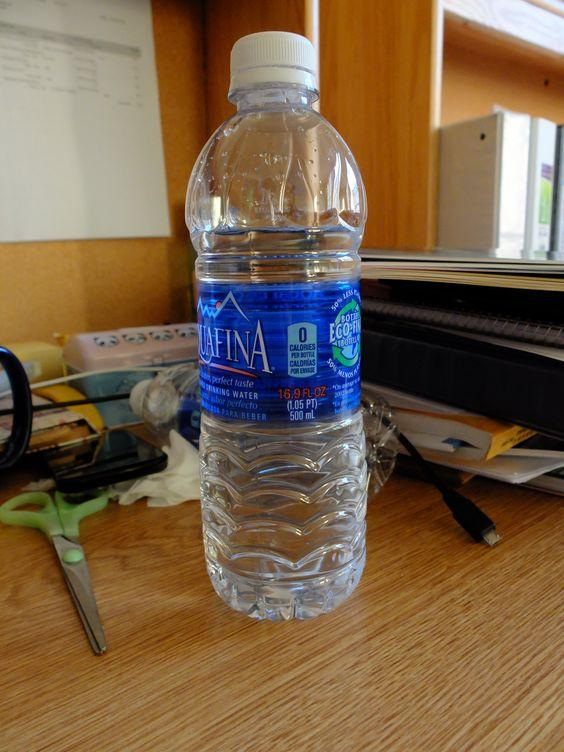HDPE: (227, 29, 322, 94)
PETE: (181, 86, 370, 625)
PP: (197, 278, 362, 424)
